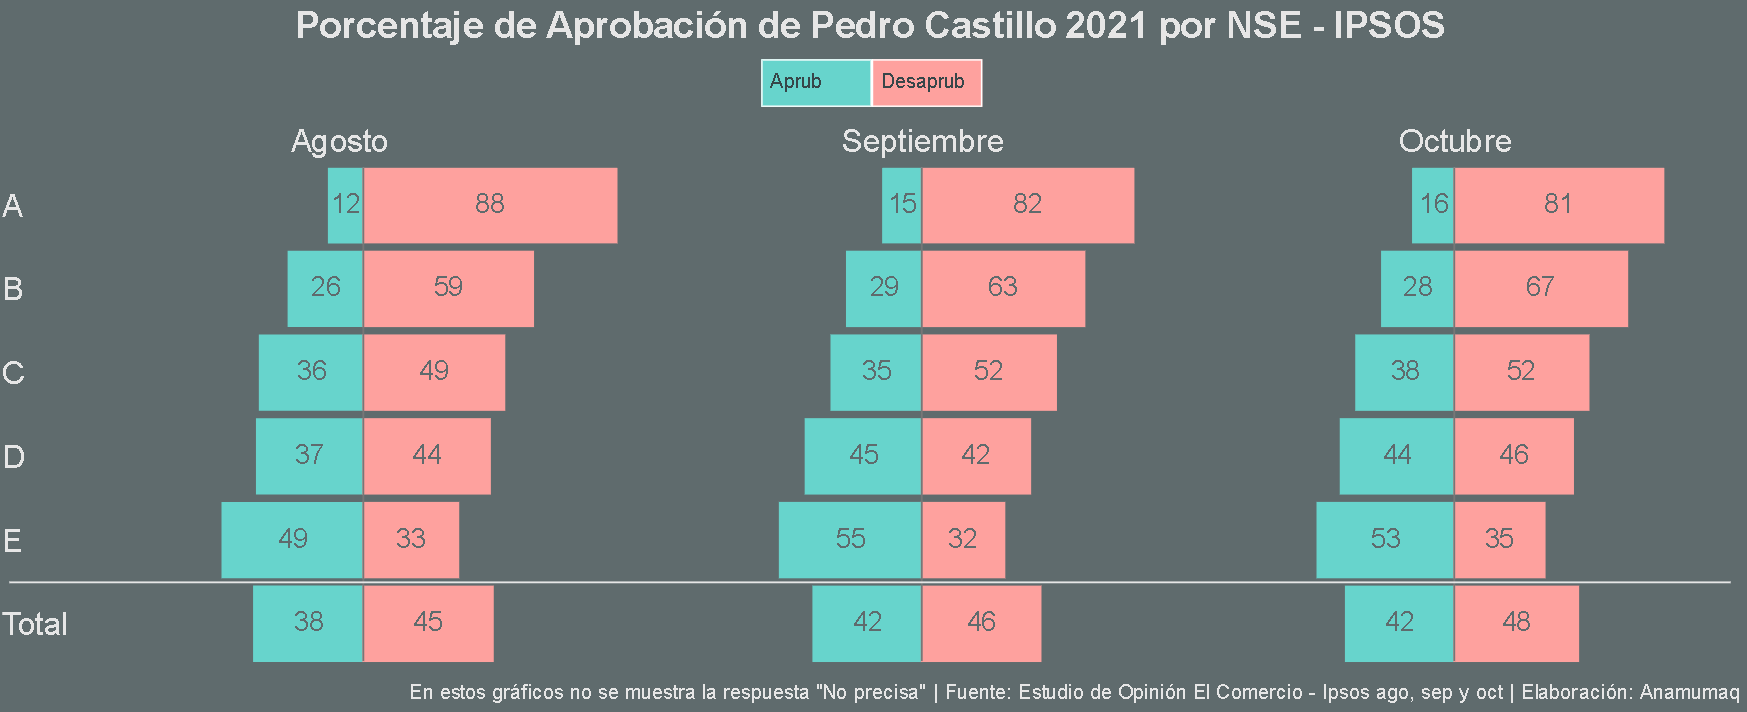

The dashboard page shown, as its layout file describes it:
{"tool":"powerbi","page":{"name":"Encuesta de probacion NSE","canvas":[960,400],"ordinal":0},"visuals":[{"type":"TornadoChart1452517688218","title":"Octubre","fields":{"Category":["Tabla1.NSE"],"Values":["Tabla1.Aprueba","Tabla1.Desaprueba"]},"box":[640,70,320,320],"z":0},{"type":"TornadoChart1452517688218","title":"Septiembre","fields":{"Category":["Tabla1.NSE"],"Values":["Tabla1.Aprueba","Tabla1.Desaprueba"]},"box":[349,70,320,320],"z":1000},{"type":"TornadoChart1452517688218","title":"Agosto","fields":{"Category":["Tabla1.NSE"],"Values":["Tabla1.Aprueba","Tabla1.Desaprueba"]},"box":[1,70,379,320],"z":2000},{"type":"textbox","box":[0,0,960,57],"z":3000},{"type":"basicShape","box":[0,301,960,41],"z":4000},{"type":"textbox","box":[0,364,960,36],"z":5000},{"type":"treemap","fields":{"Values":["Tabla1.Desaprueba","Tabla1.Aprueba"]},"box":[415,30,131,36],"z":8000}]}

Visuals, with their boxes in screenshot pixels (x1, y1, x2, y2), scaled from the page's 960x400 canvas onto the 1747x712 screenshot:
"Octubre" TornadoChart1452517688218: 1165/125/1746/694
"Septiembre" TornadoChart1452517688218: 635/125/1217/694
"Agosto" TornadoChart1452517688218: 2/125/692/694
textbox: 0/0/1746/101
basicShape: 0/536/1746/609
textbox: 0/648/1746/711
treemap - Tabla1.Desaprueba x Tabla1.Aprueba: 755/53/994/117
